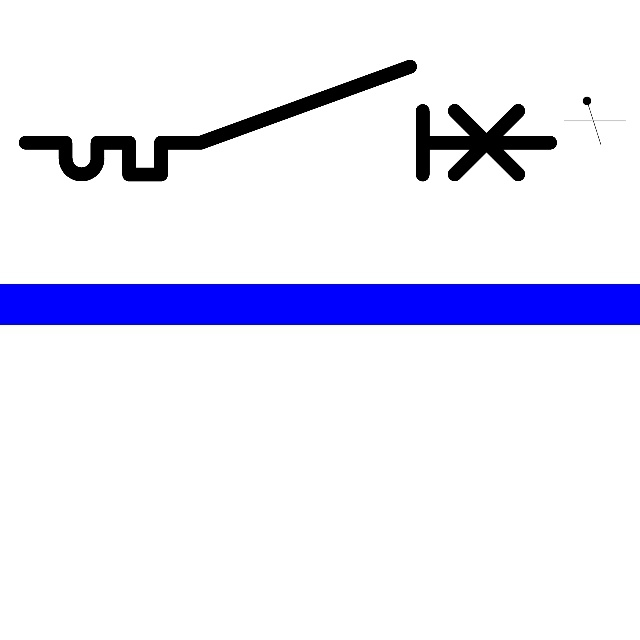interruptor_termomagnetico: (12, 53, 564, 188)
